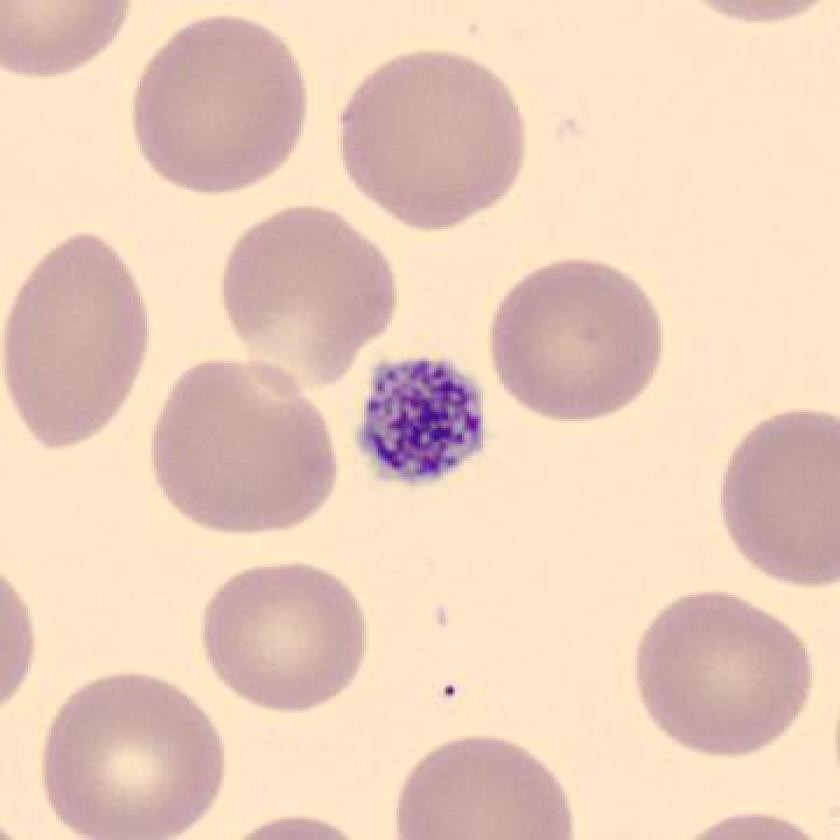platelets: (346, 346, 496, 501)
